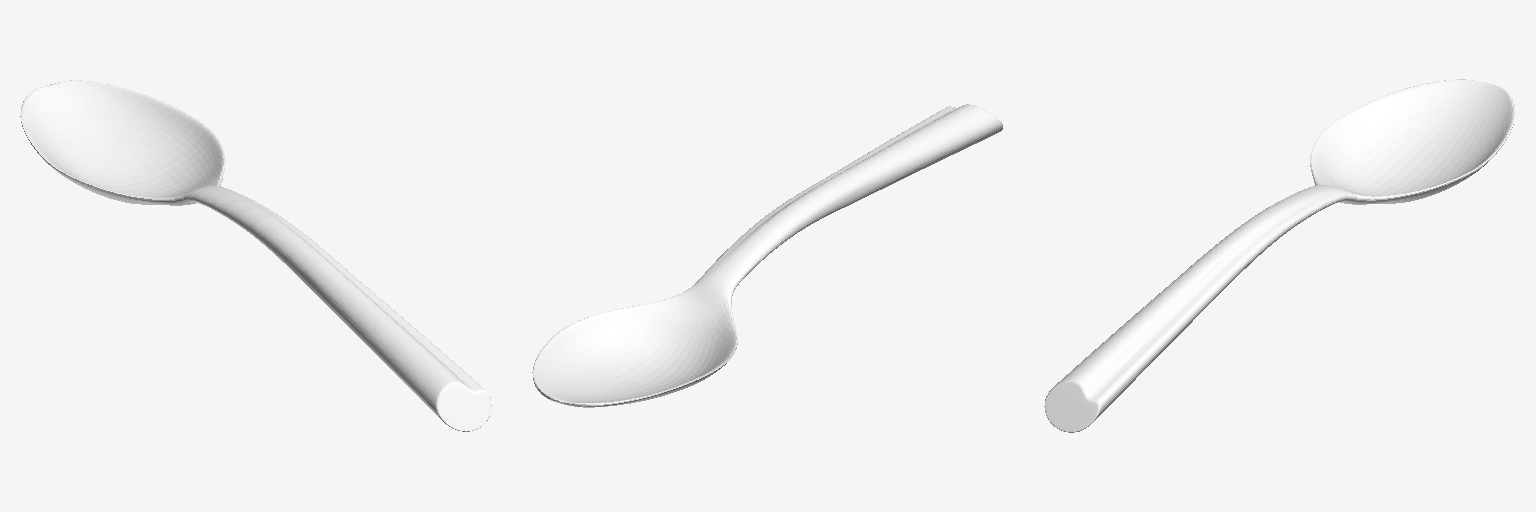
URDF robot description (spoon):
<robot name="spoon">
	<link name="_name">
		<visual>
			<origin rpy="0 0 0" xyz="-0.6709877104660698 -5.072705654110975 -0.744477" />
			<geometry>
				<mesh filename="spoon/91b14c74a87d1ed51e652fa812161367.obj" scale="1 1 1" />
			</geometry>
			<material name="texture">
				<color rgba="1.0 1.0 1.0 1.0" />
			</material>
		</visual>
		<collision>
			<geometry>
				<mesh filename="spoon/91b14c74a87d1ed51e652fa812161367_vhacd.obj" scale="1 1 1" />
			</geometry>
		<origin rpy="0 0 0" xyz="-0.6709877104660698 -5.072705654110975 -0.744477" /></collision>
		<inertial>
			<mass value="1.0" />
			<inertia ixx="1.0" ixy="0.0" ixz="0.0" iyy="1.0" iyz="0.0" izz="1.0" />
		</inertial>
	</link>
</robot>

--- Render facts (derived) ---
3 views of the same robot in one strip: view 1: azimuth 30°, elevation 25°; view 2: azimuth 150°, elevation 25°; view 3: azimuth 330°, elevation 25° (orthographic).
Model spoon with 1 links and 0 joints (none), rooted at _name, posed every joint at zero.
Visible links, largest first — view 1: _name; view 2: _name; view 3: _name.
Boxes of the visible links, <box> form: _name: <box>20,80,491,431</box>; _name: <box>532,104,1002,407</box>; _name: <box>1044,79,1515,432</box>.
Size in the robot's own frame: 1.82 by 8.53 by 0.7445 metres.
Meshes: 1 distinct files referenced, 1 mesh visuals loaded (1 OBJ).